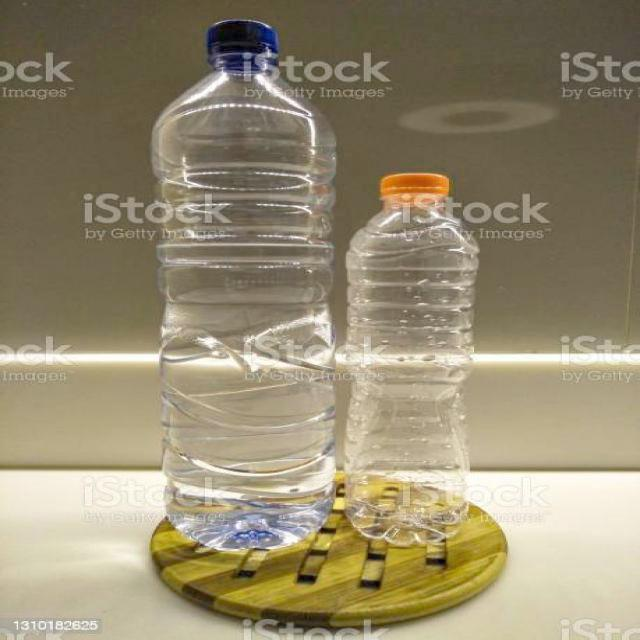bottle: (151, 19, 338, 551), (344, 173, 479, 548)
